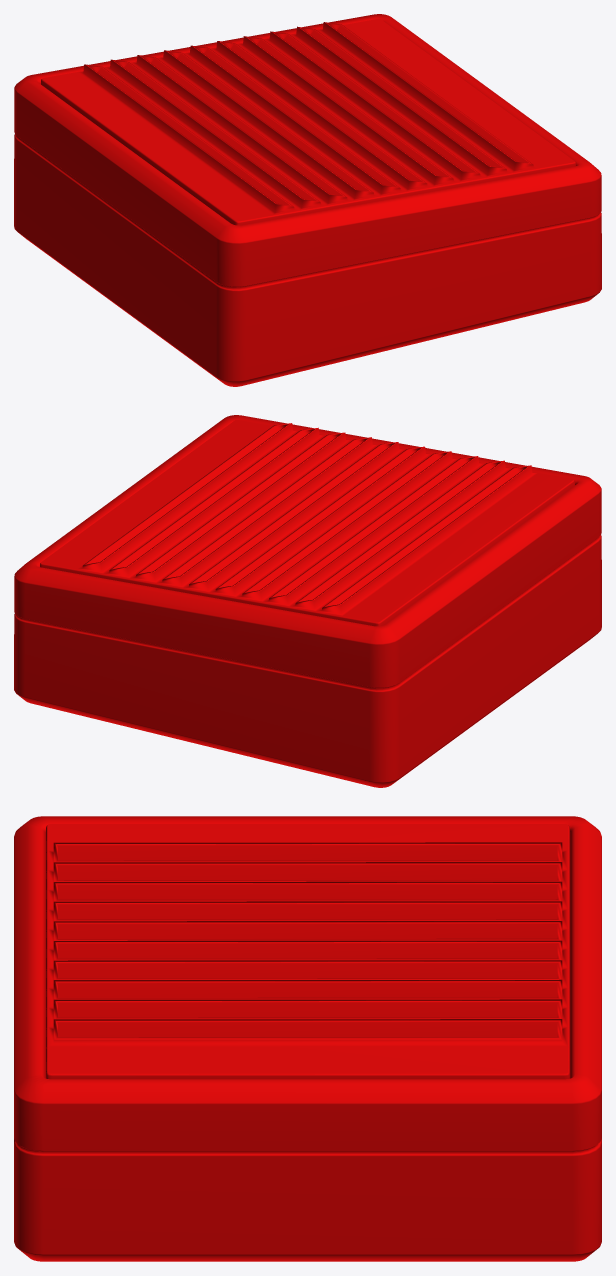
Rendered from Equipment_38.fbx.
3 views of the same model, one above another, from view 1: azimuth 30°, elevation 25°; view 2: azimuth 150°, elevation 25°; view 3: azimuth 270°, elevation 25° (orthographic). The views are drawn at different scales.
Parts seen in each view (by area): view 1: L22:polySurface661; view 2: L22:polySurface661; view 3: L22:polySurface661.
Boxes of the visible parts, x1,y1,x2,y2 form: L22:polySurface661: (14, 14, 601, 386); L22:polySurface661: (14, 415, 601, 787); L22:polySurface661: (14, 816, 601, 1261).
Size of the model in its own units: 116 by 47.54 by 116.
